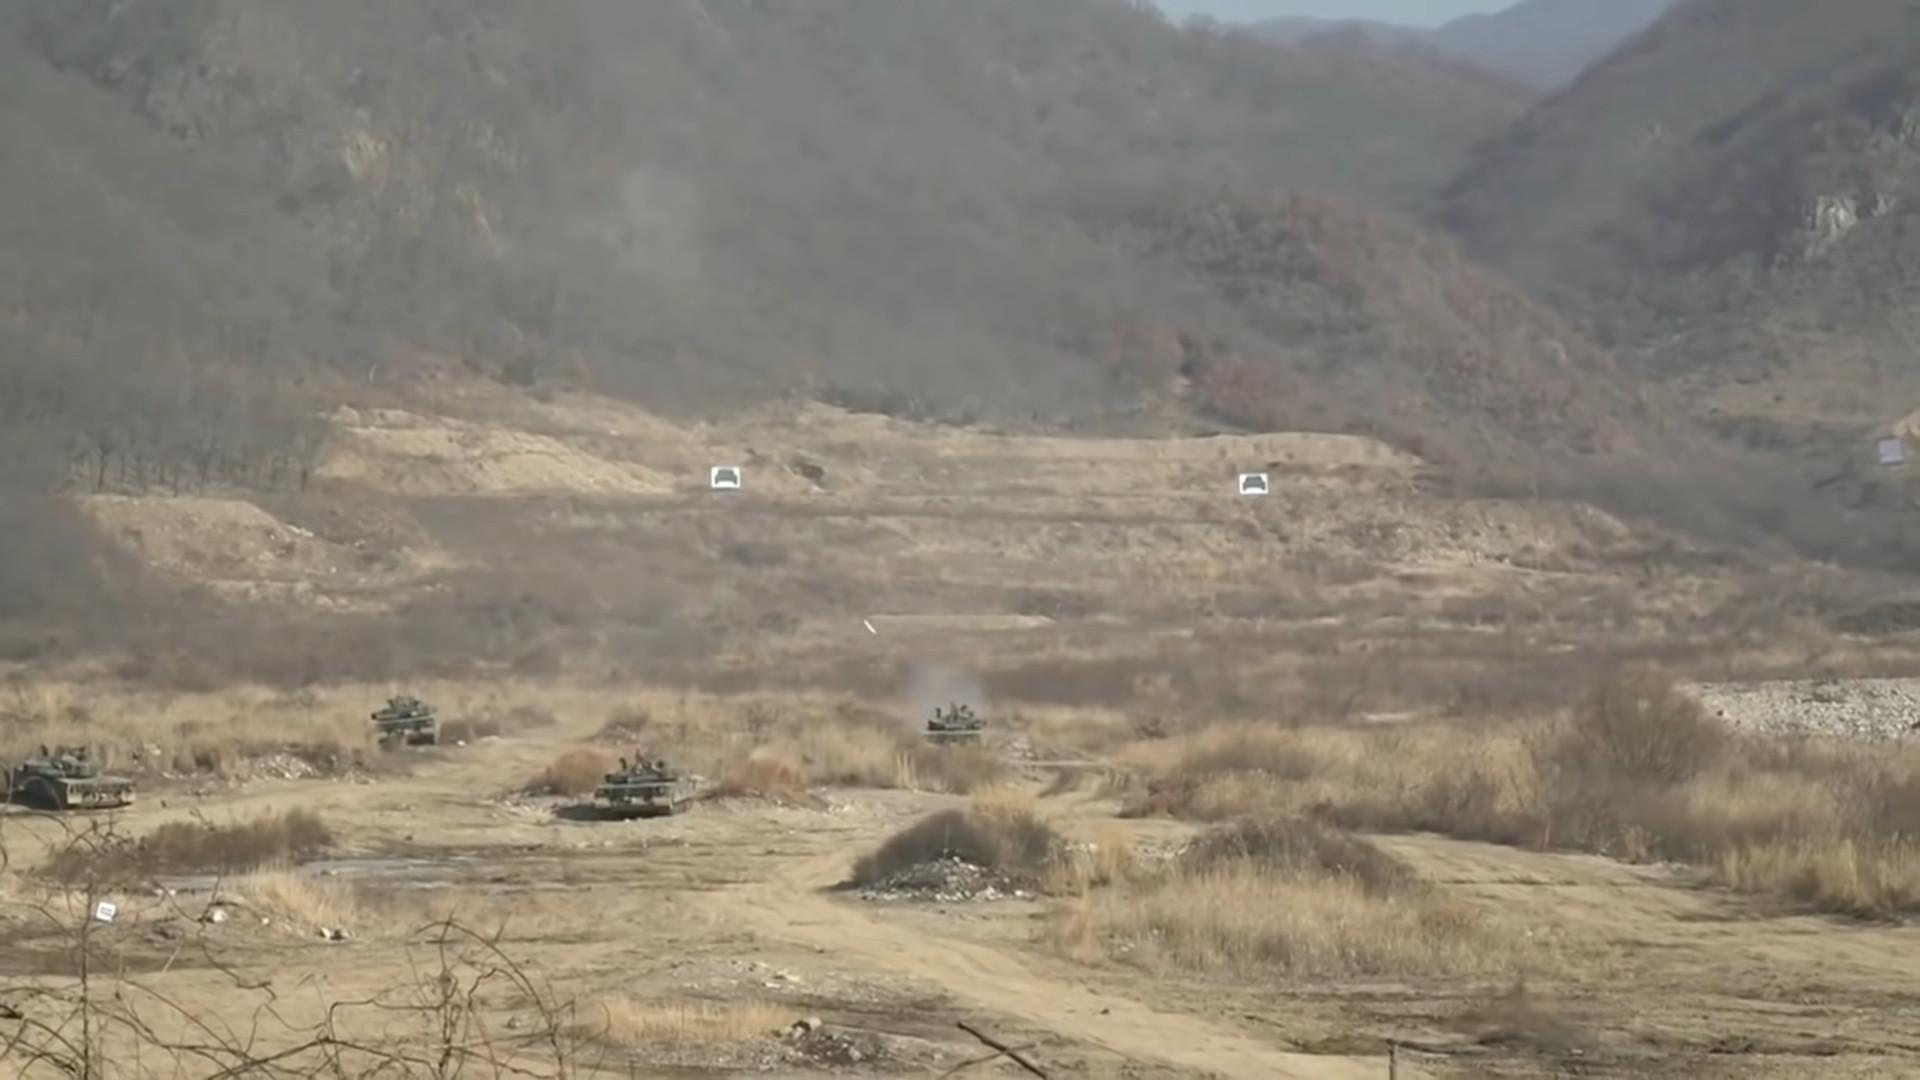tank: (12, 743, 136, 808), (592, 748, 698, 820), (371, 695, 440, 744), (921, 701, 987, 747)
